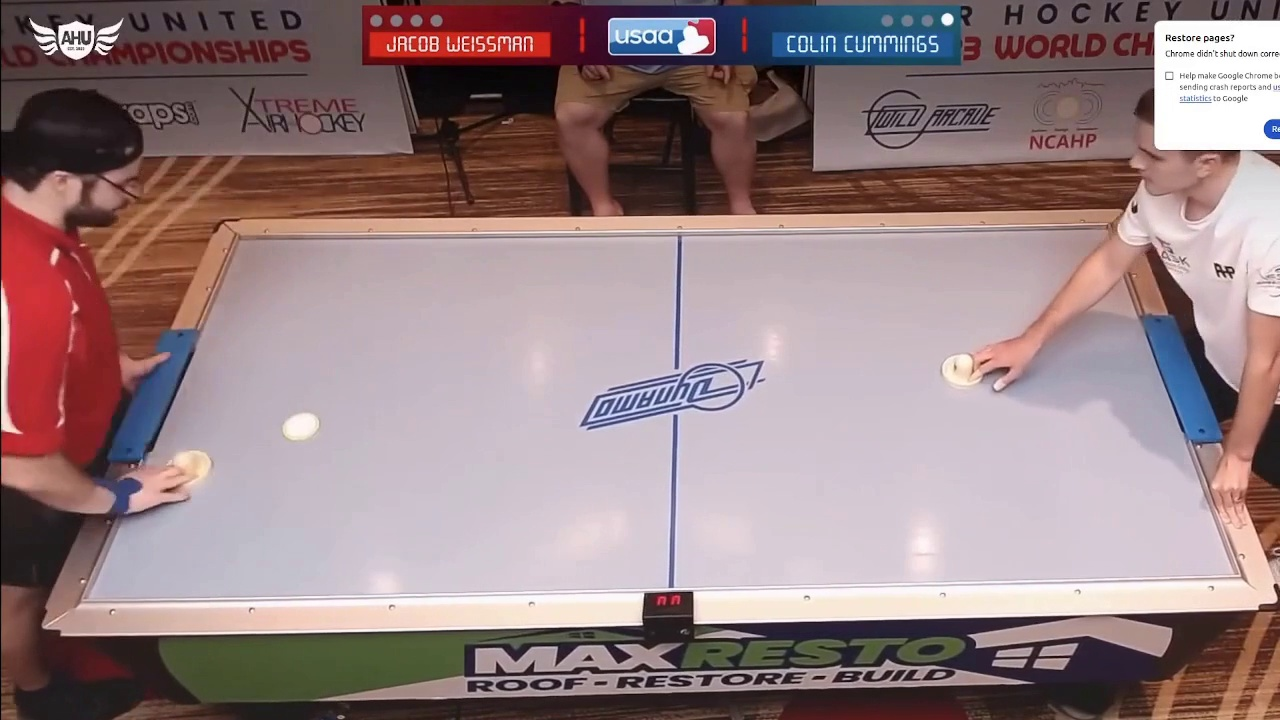player: (167, 449, 215, 487), (942, 354, 984, 386)
puck: (280, 411, 319, 442)
table: (100, 204, 1280, 616)
